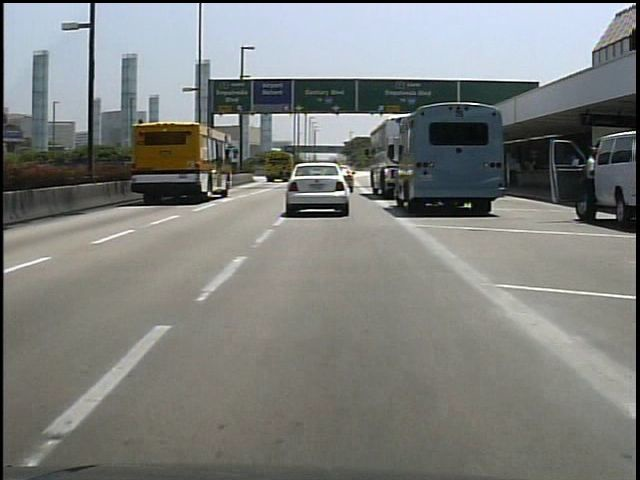person: (580, 139, 598, 227)
